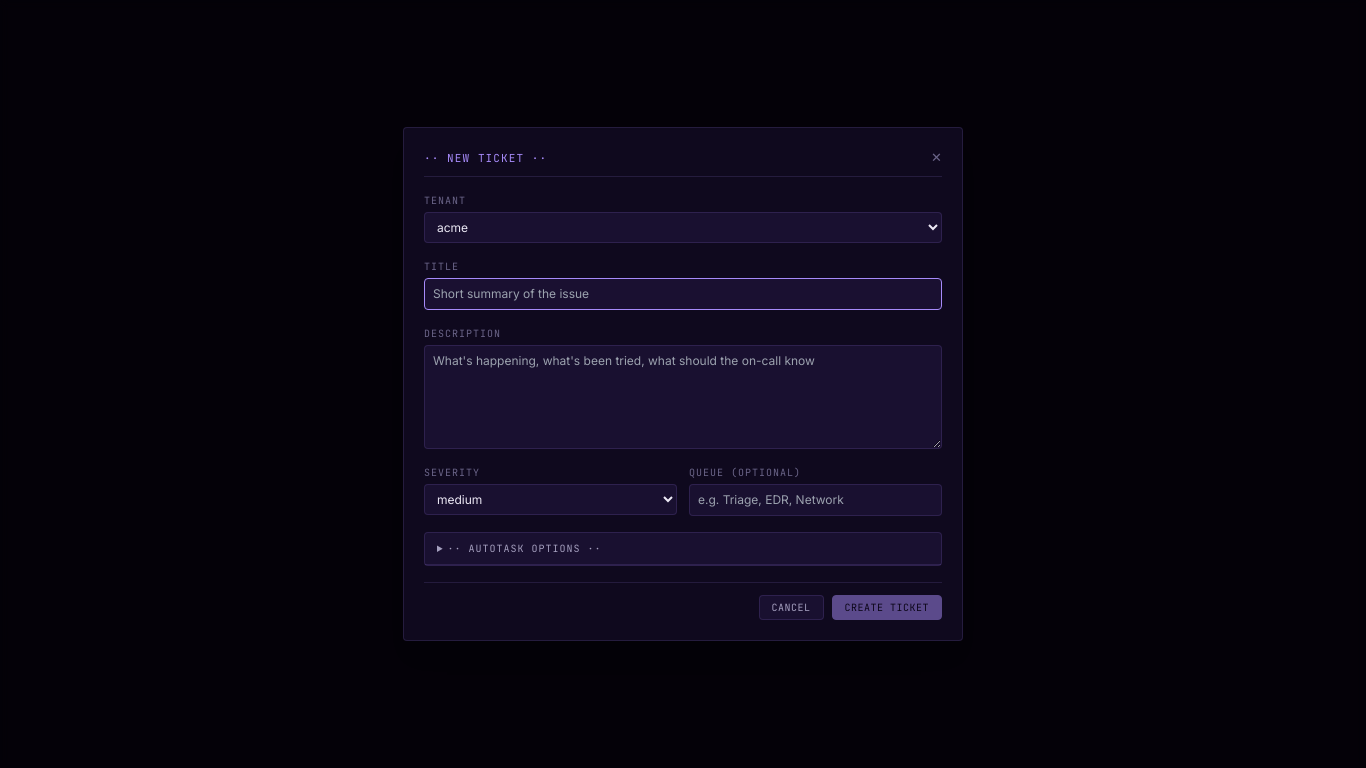
NewTicketModal › hides push when the switch cannot be read (fails closed)
The image size is (1366, 768).
Click the heading "·· autotask options ··" at x=525, y=548, box [425,533,941,565]
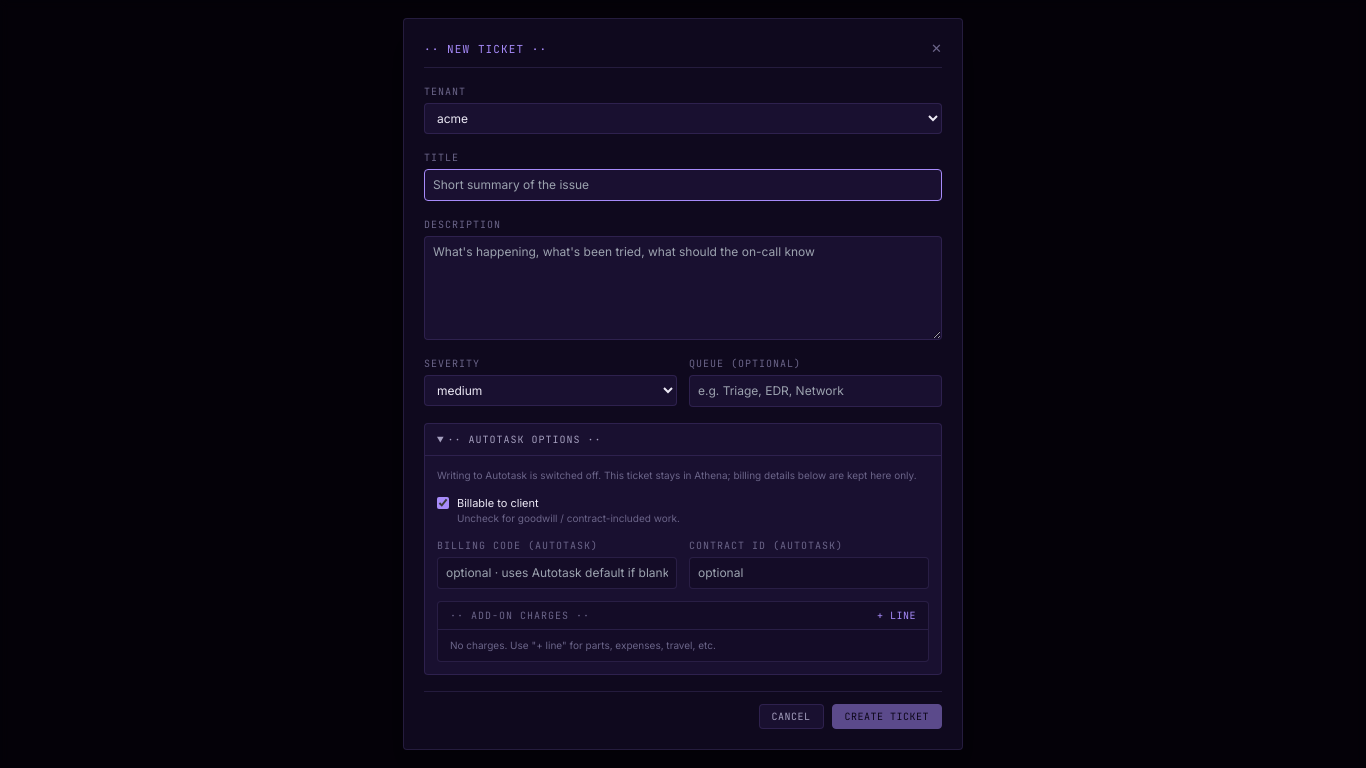
Expected: the text with test id "psa-writes-off" is shown, [437,468,929,482]
